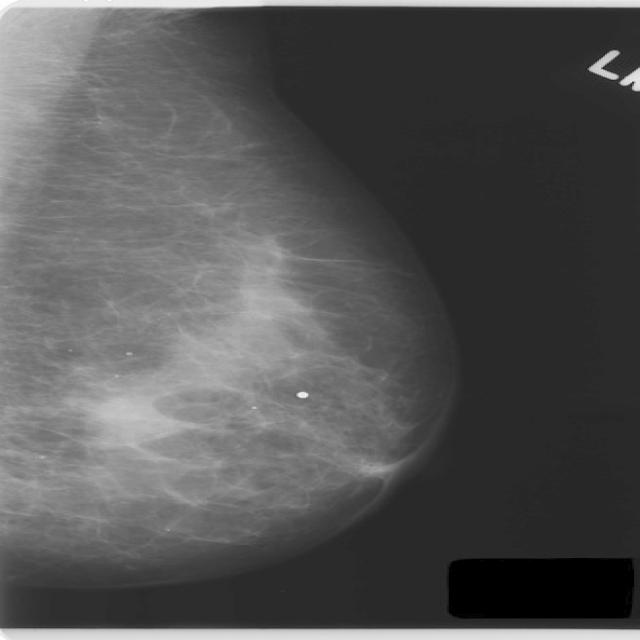tumour: (74, 382, 186, 446)
